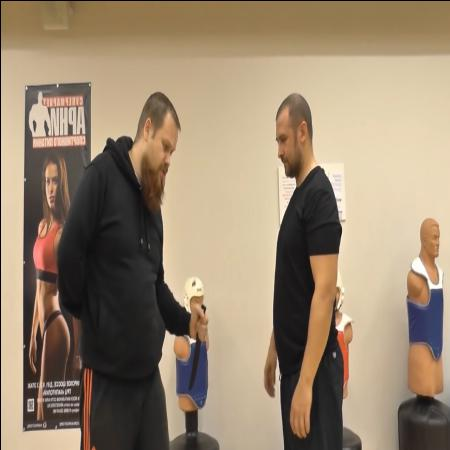long weapon: (187, 300, 209, 392)
